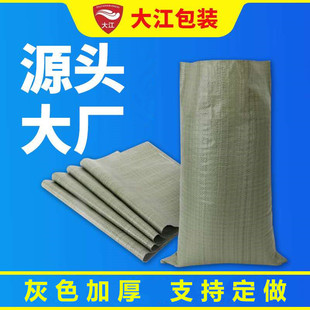塑料袋: (163, 60, 286, 267)
